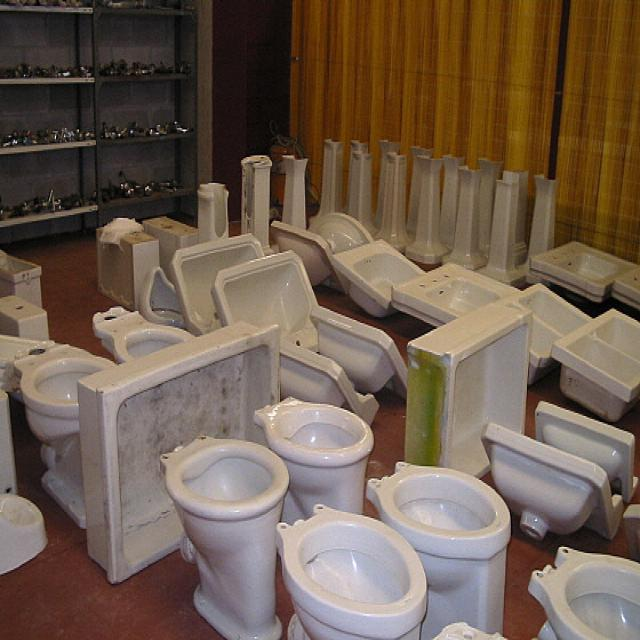sink basin: (75, 315, 282, 584)
wc: (366, 462, 509, 637), (251, 393, 373, 521)
wc chair crop: (157, 430, 288, 638)
wc occluded: (273, 503, 426, 637), (526, 546, 638, 638)
